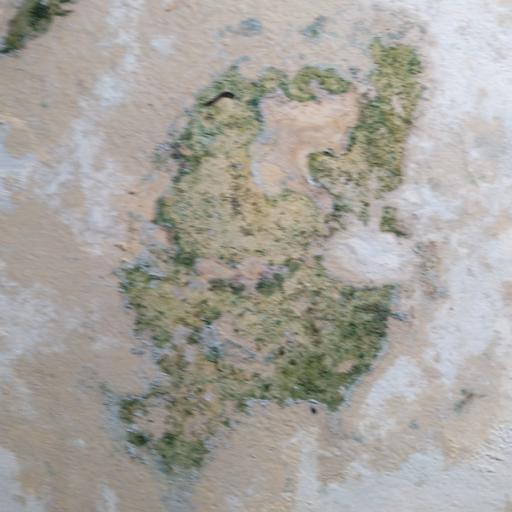algae: (125, 27, 458, 501)
